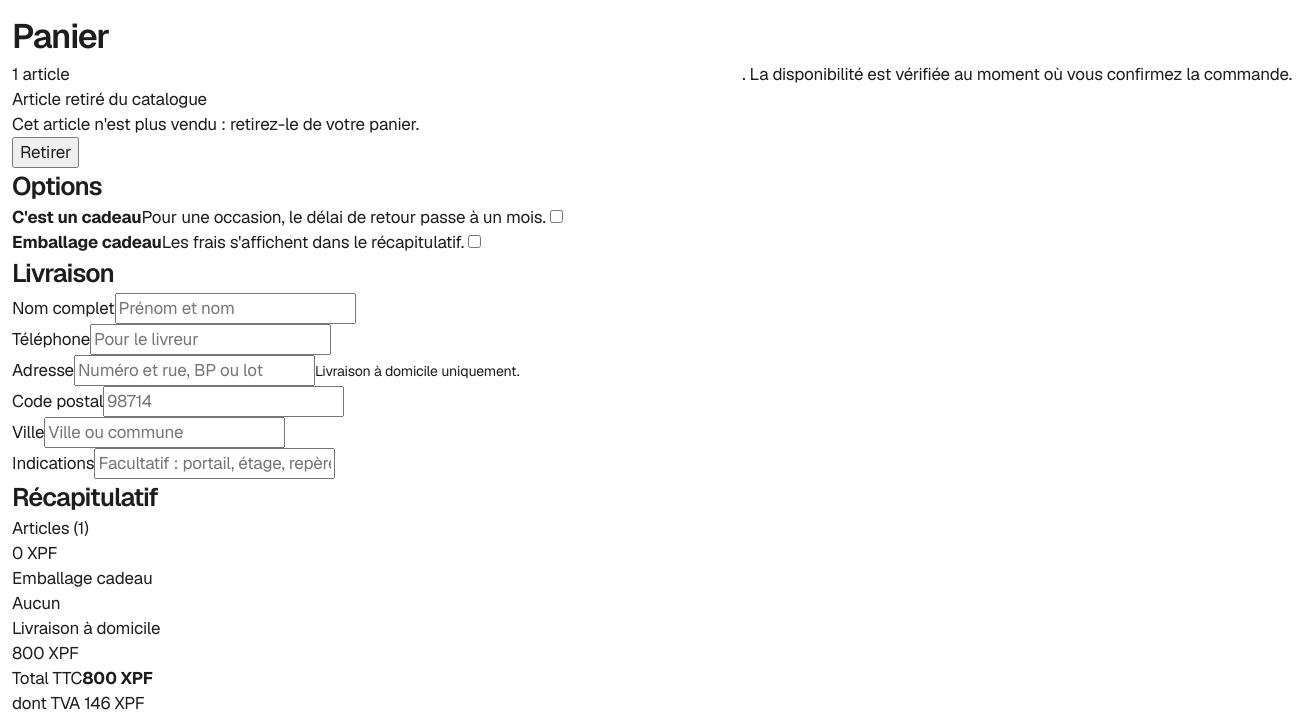
Test: page Panier › signale un article qui n existe plus dans le catalogue
Expected: the text "Article retiré du catalogue" is shown, [12,88,207,110]
Click the button with aria-label "Retirer l'article retiré du catalogue".
click(46, 152)  # box [12,137,79,168]
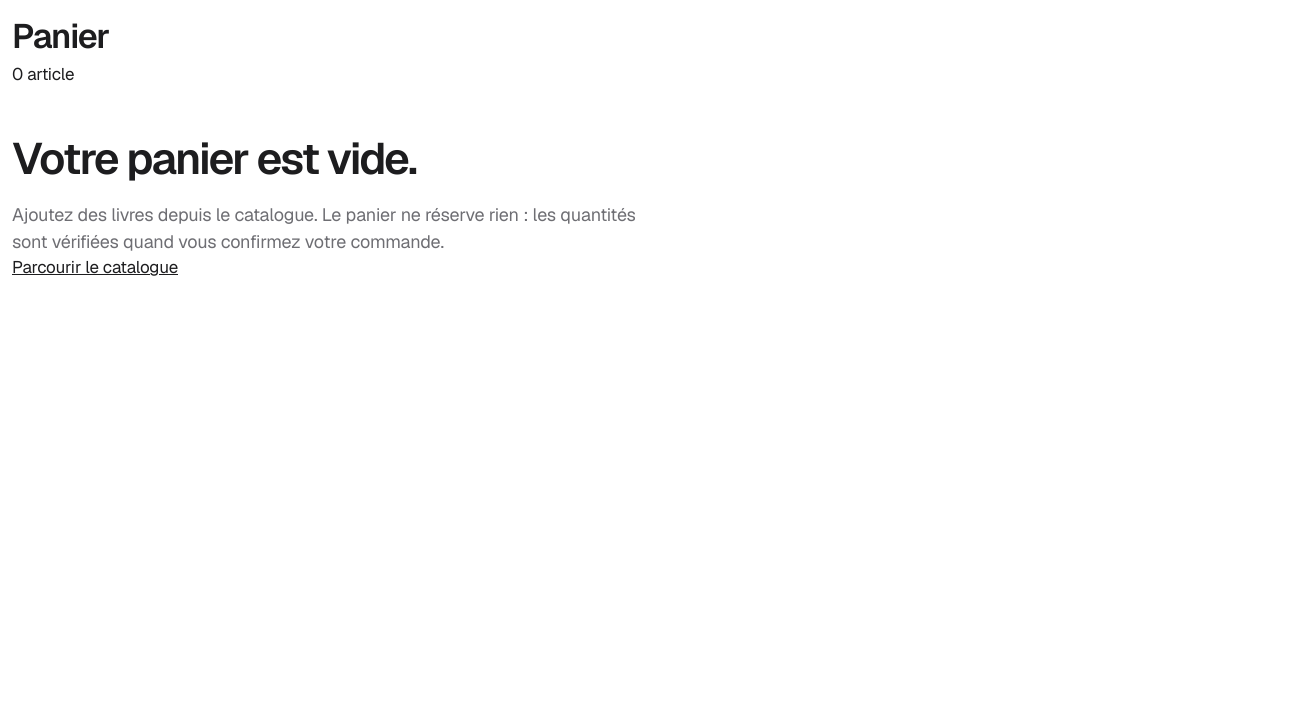
Expected: the heading "Votre panier est vide." is shown, [12,130,416,187]
